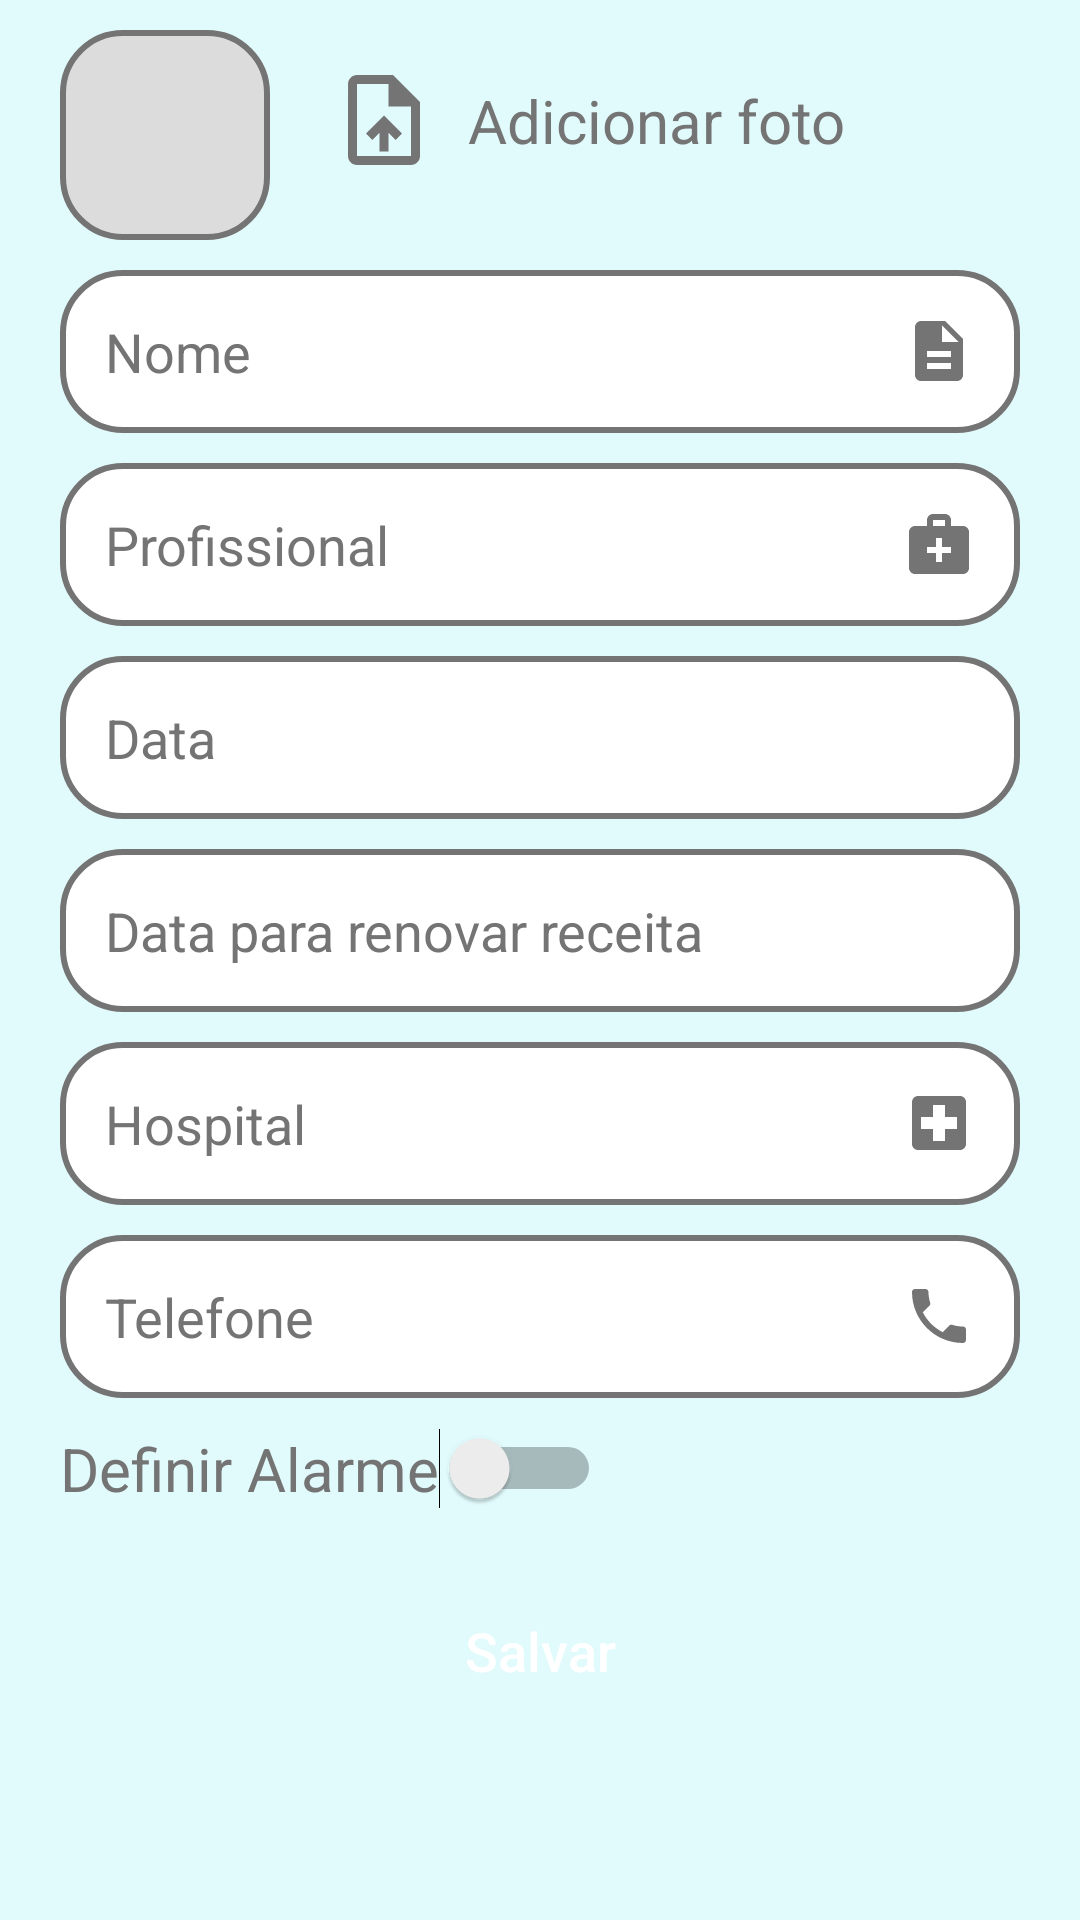

Icons on this 1080px x 1920px Android screen, each with the point to tap as [x,y]:
upload file: [384,120]
